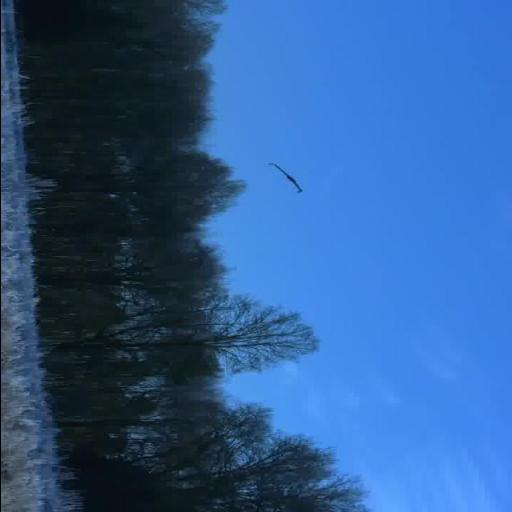uav: (256, 155, 312, 203)
